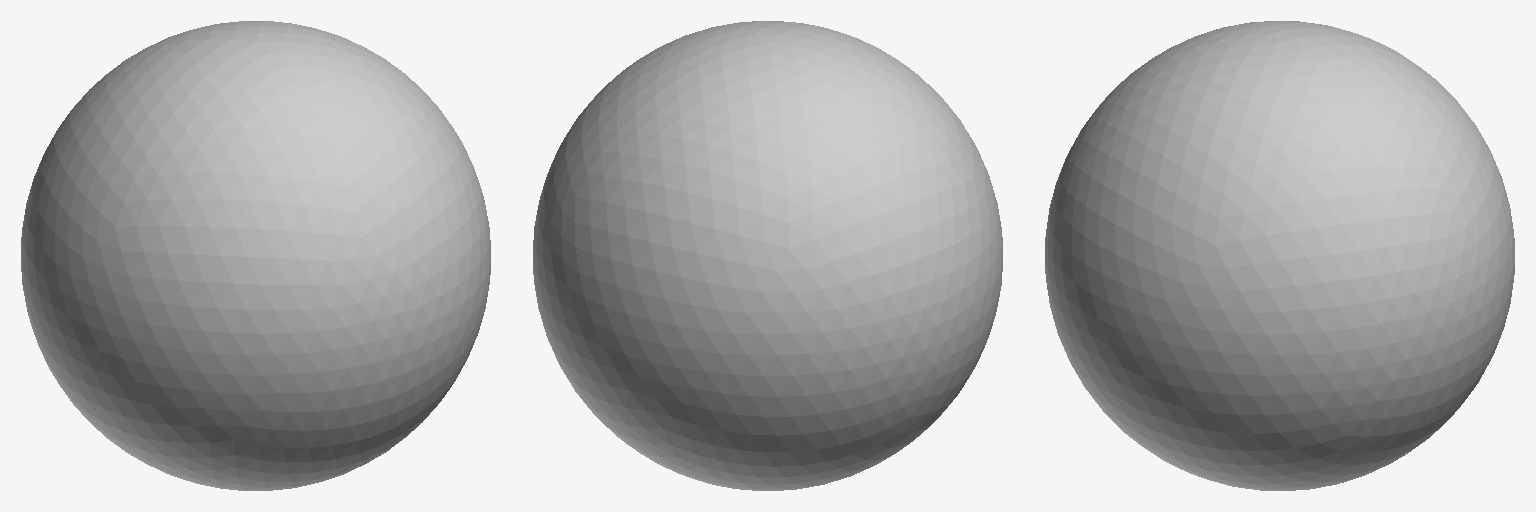
The model's file is unitsphere.obj.
3 renders of one model, left to right at view 1: azimuth 30°, elevation 25°; view 2: azimuth 150°, elevation 25°; view 3: azimuth 270°, elevation 25°, orthographic.
Parts seen in each view (by area): view 1: default; view 2: default; view 3: default.
Boxes of the visible parts, box(x1,y1,x2,y2) form: default: box(21, 21, 490, 490); default: box(533, 21, 1002, 490); default: box(1045, 21, 1514, 490).
Bounding box in the file's own units: 2 × 2 × 2.